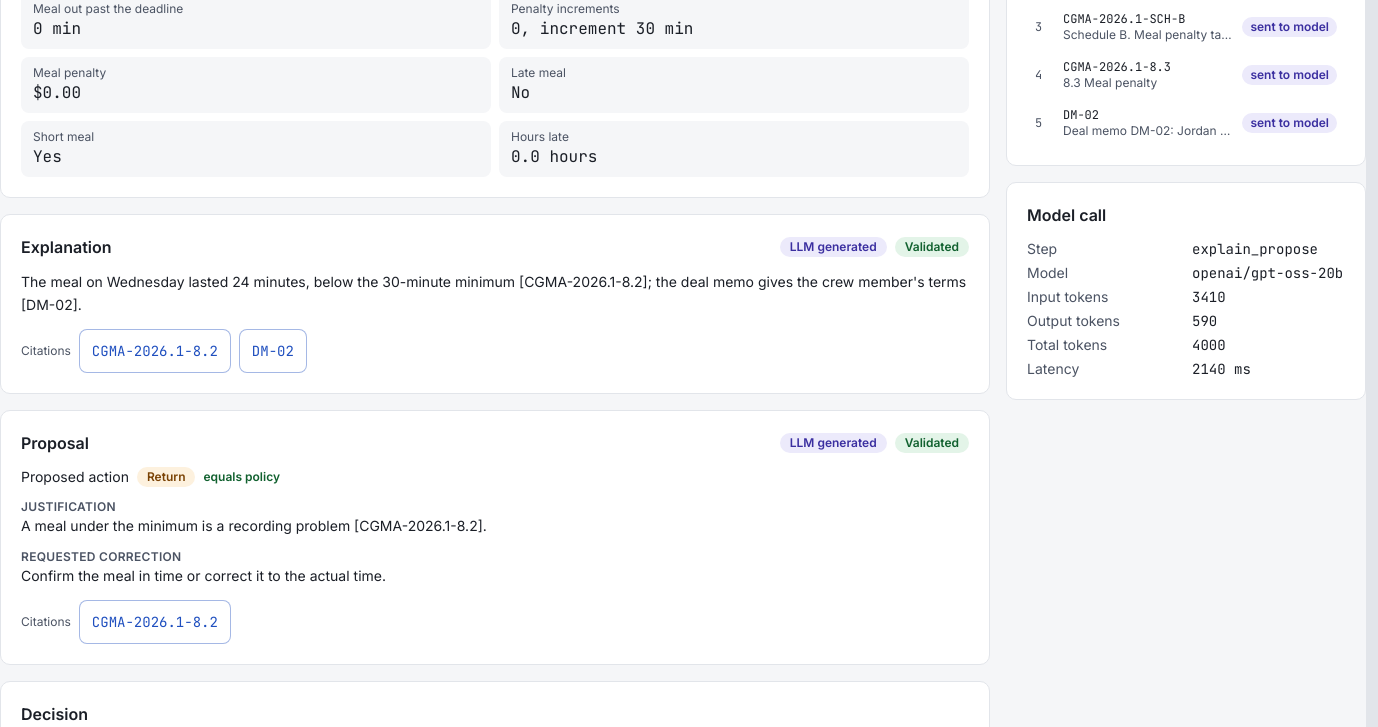
Test: case detail › opens the exact passage and its key when a citation is clicked
The width and height of the screenshot is (1378, 727).
(page scrolled)
Click the button "CGMA-2026.1-8.2" below "Explanation".
click(155, 350)  # box left=79, top=328, right=231, bottom=372
(page scrolled)
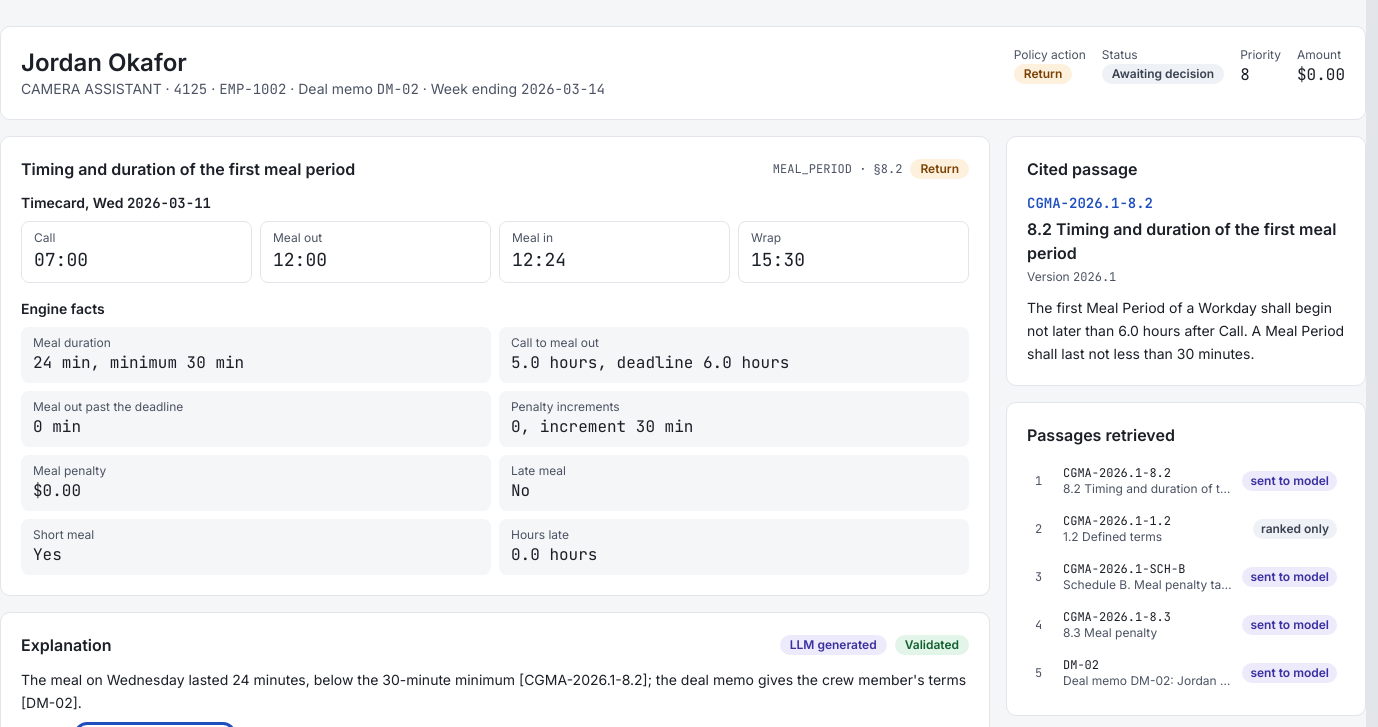
Now the text "The first Meal Period of a Workday shall begin not later than 6.0 hours after Call. A Meal Period shall last not less th" is shown, box left=1027, top=299, right=1348, bottom=362
Now the text "CGMA-2026.1-8.2" below "Cited passage" is shown, box left=1027, top=194, right=1153, bottom=212
Now the heading "8.2 Timing and duration of the first meal period" is shown, box left=1027, top=217, right=1345, bottom=265
